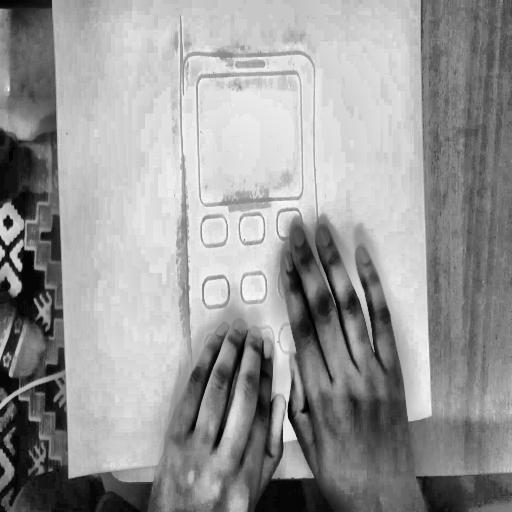bottom_left: (65, 471, 73, 485)
bottom_right: (428, 408, 435, 420)
mobile: (173, 6, 333, 425)
